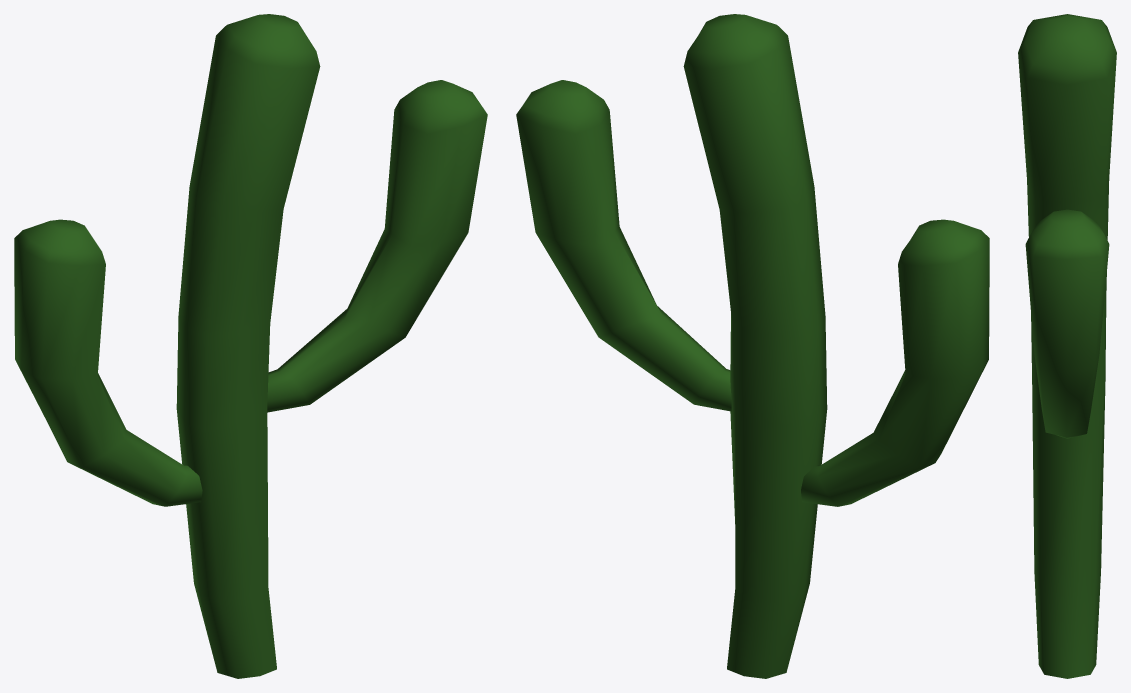
File: Cactus_37_A.fbx
3 views of the same model, side by side, from view 1: azimuth 30°, elevation 25°; view 2: azimuth 150°, elevation 25°; view 3: azimuth 270°, elevation 25° (orthographic). The views are drawn at different scales.
Parts seen in each view (by area): view 1: Cactus_37_A; view 2: Cactus_37_A; view 3: Cactus_37_A.
Part boxes in pixels (<box>): Cactus_37_A: <box>14,14,487,678</box>; Cactus_37_A: <box>516,14,989,678</box>; Cactus_37_A: <box>1018,14,1116,678</box>.
Bounding box in the file's own units: 160 × 215 × 29.39.
